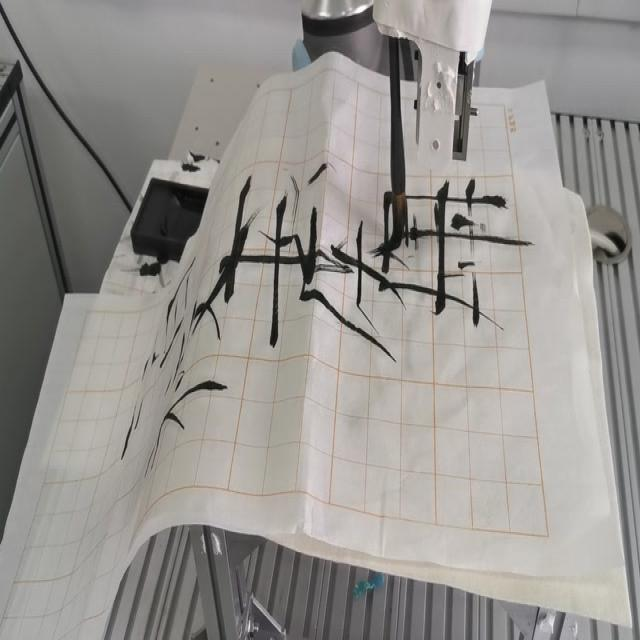head: (370, 196, 412, 263)
inkstone: (130, 175, 214, 263)
writing-brush: (368, 2, 421, 257)
